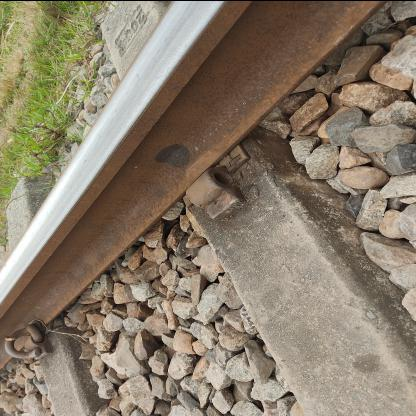Defective 1: (168, 144, 282, 235)
